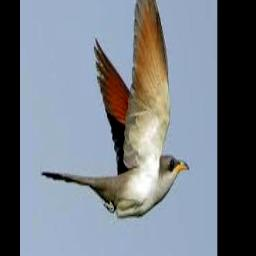Cuckoo: (42, 0, 188, 216)
